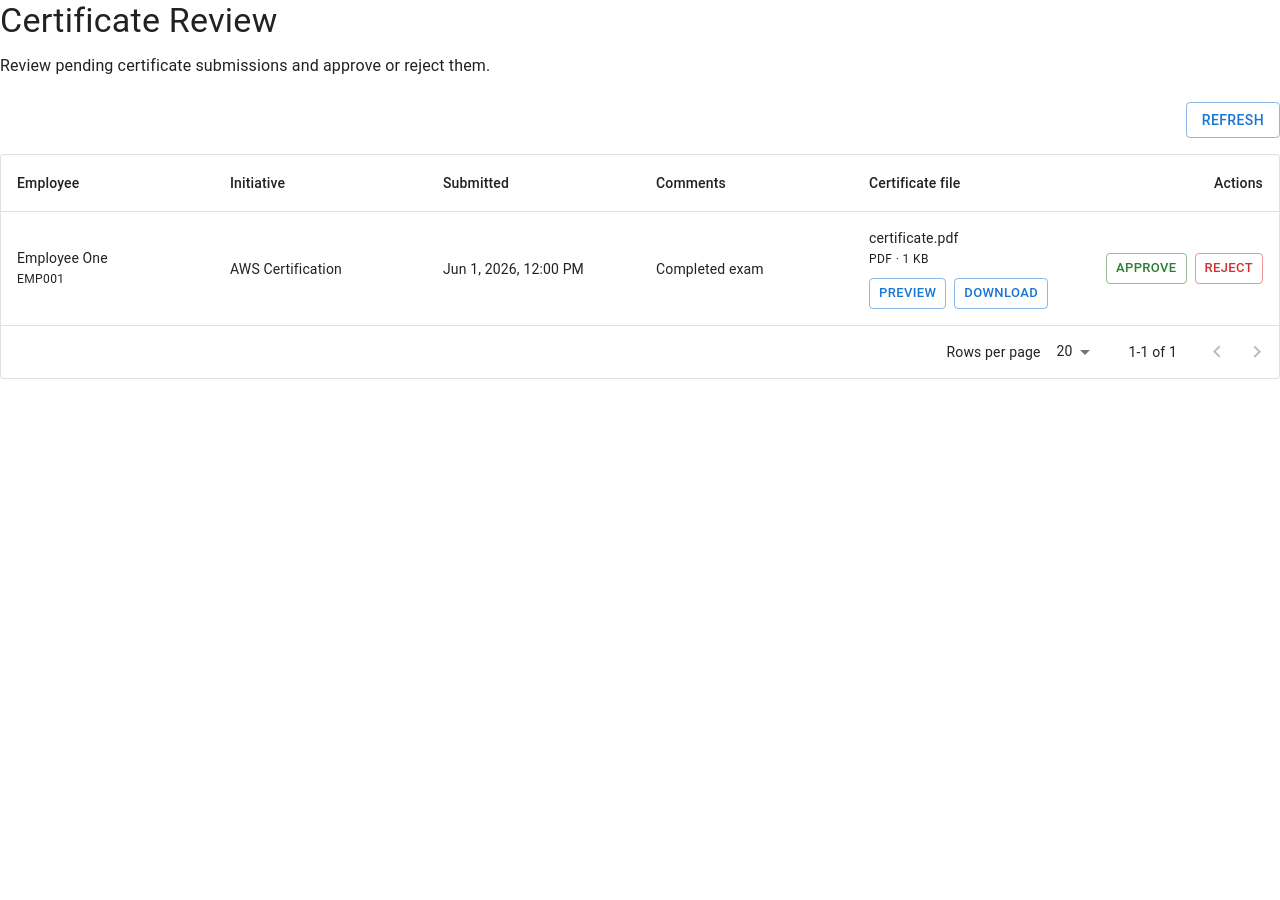
AdminReviewPage › shows approve error and refreshes when approve fails
Expected: the text "Employee One" is shown, [17, 250, 108, 266]
Click the button "Approve" at (1146, 269), box [1106, 253, 1186, 284]
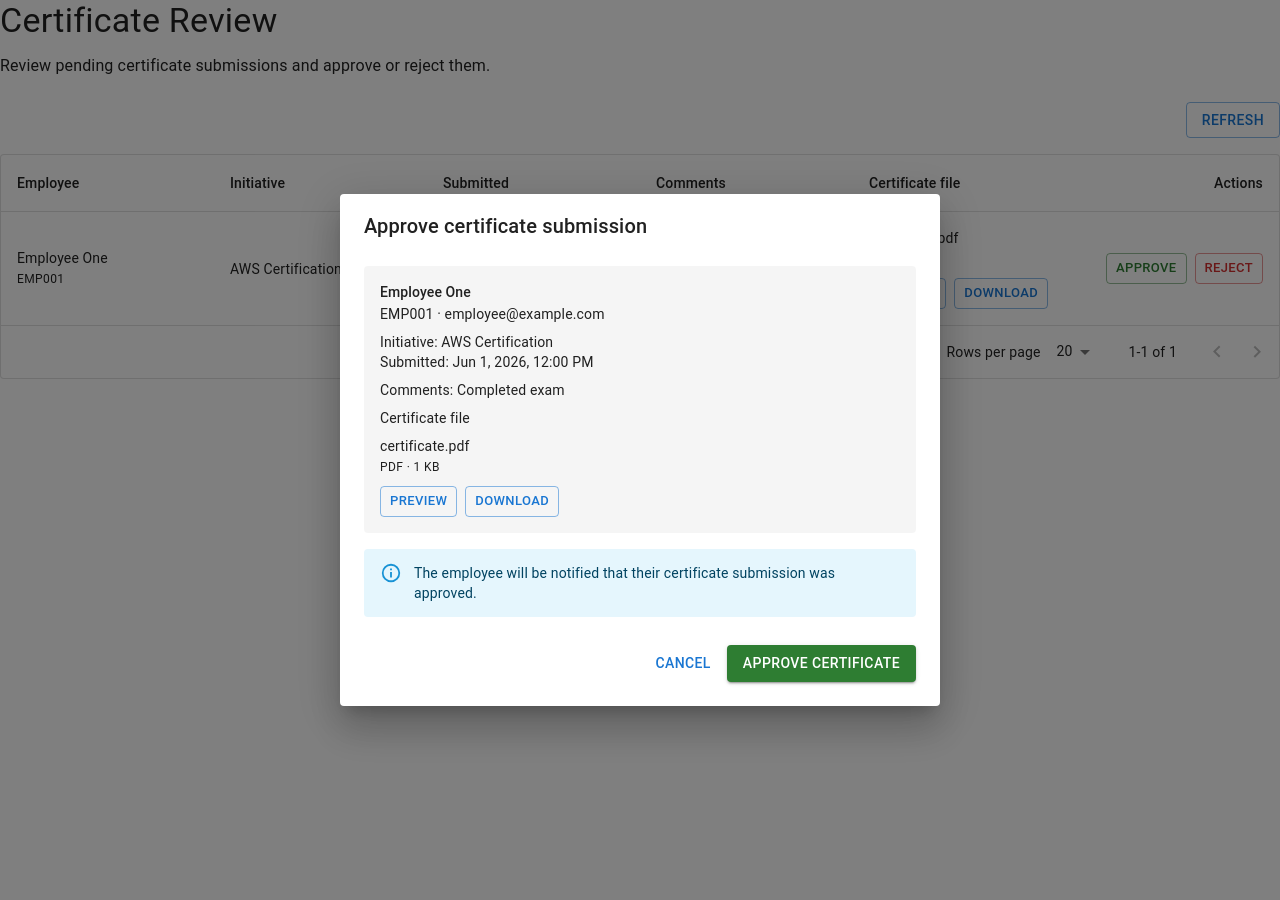
Click the button "Approve certificate" at (821, 663), box [727, 645, 916, 682]
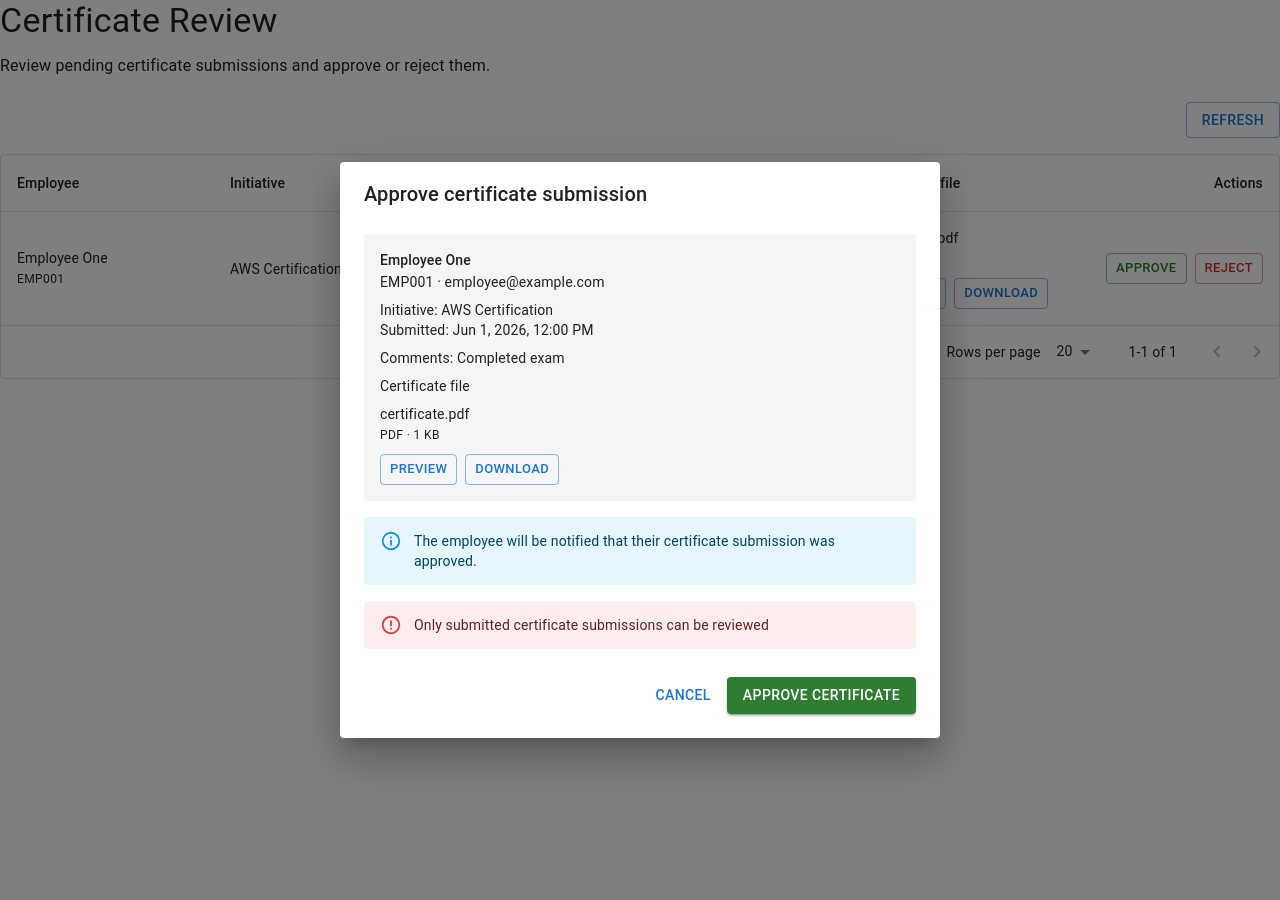
Expected: the text "Only submitted certificate submissions can be reviewed" is shown, [414, 617, 769, 633]
